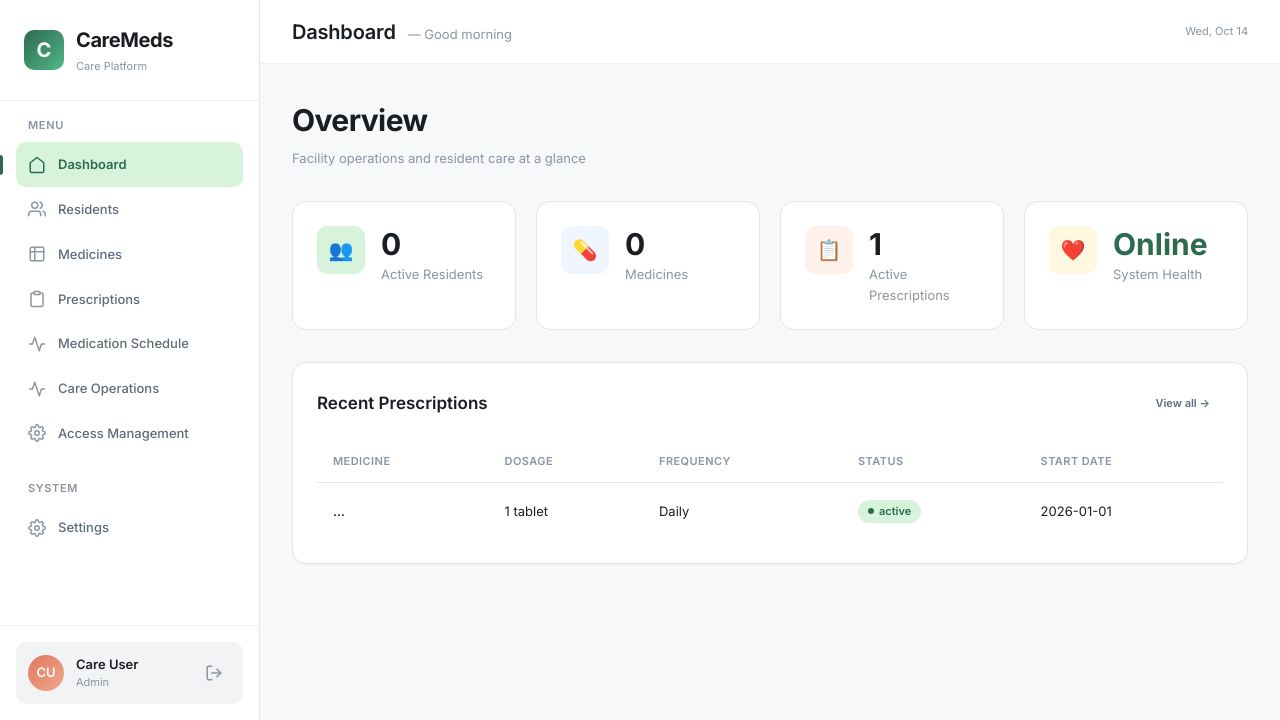
Test case: CareMeds role-based application surfaces › does not offer prescription mutations to administrators
Expected: the heading "Overview" is shown, [292,102,427,138]
Click the button "Prescriptions" at (130, 299), box [16,277,243,321]
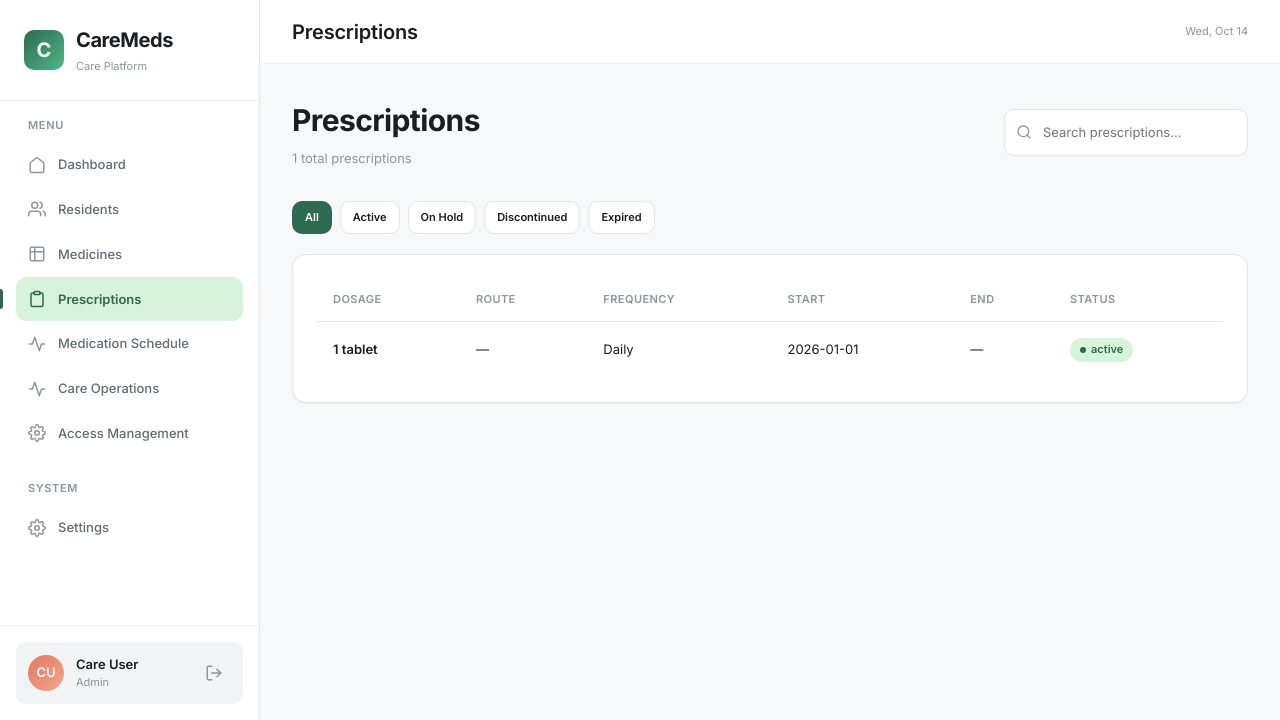
Expected: the heading "Prescriptions" is shown, [292,96,480,144]
